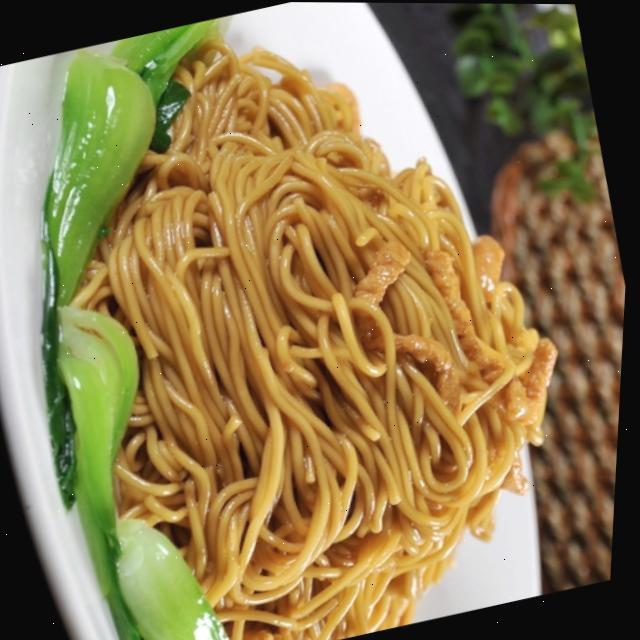面条主食: (22, 0, 623, 640)
